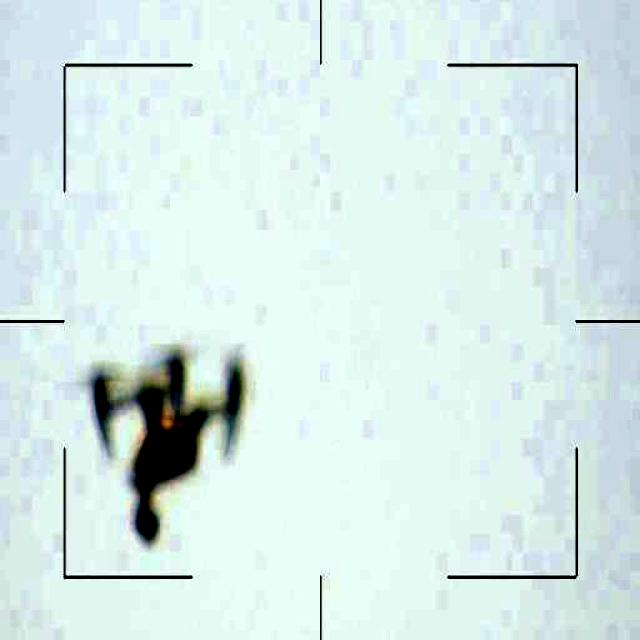bird: (76, 338, 251, 550)
